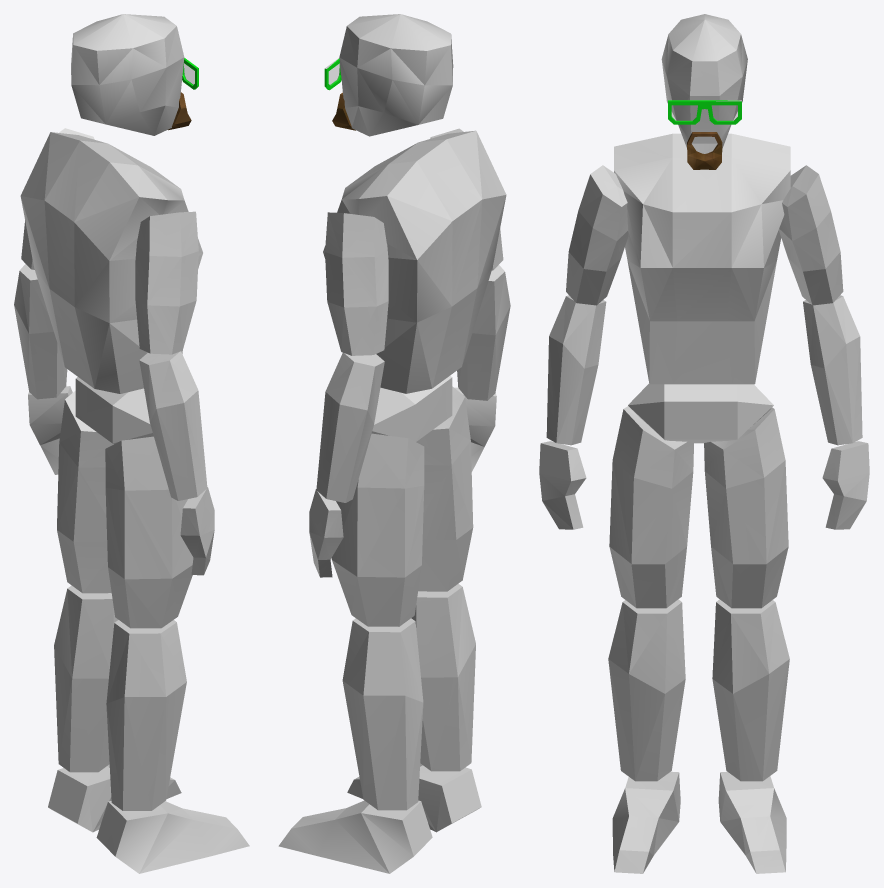
Rendered from player_start.fbx.
3 renders of one model, left to right at view 1: azimuth 30°, elevation 25°; view 2: azimuth 150°, elevation 25°; view 3: azimuth 270°, elevation 25°, orthographic.
Visible parts, largest first — view 1: player_start; view 2: player_start; view 3: player_start.
Part boxes in pixels (x1,y1,x2,y2): player_start: [14, 14, 249, 873]; player_start: [278, 14, 510, 873]; player_start: [539, 14, 869, 873].
Bounding box in the file's own units: 34.63 × 181 × 66.68.
